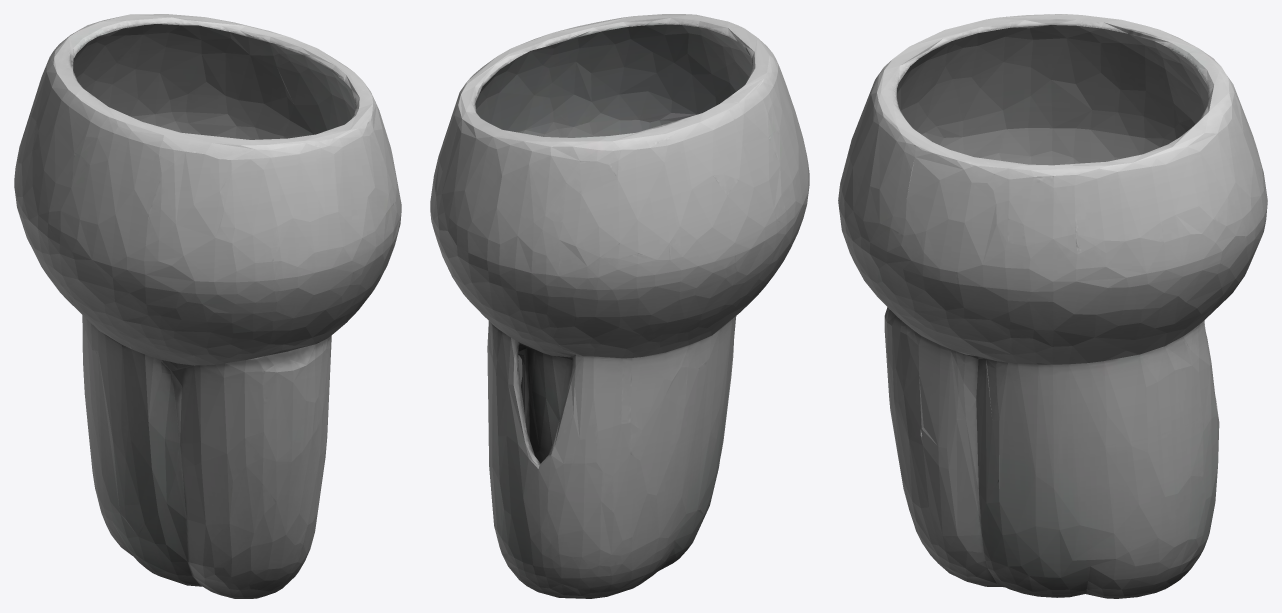
File: vase_white_round_2.glb
The picture shows the model from 3 angles, left to right: view 1: azimuth 30°, elevation 25°; view 2: azimuth 150°, elevation 25°; view 3: azimuth 270°, elevation 25°; orthographic projection. The views are drawn at different scales.
Visible parts, largest first — view 1: geometry_0; view 2: geometry_0; view 3: geometry_0.
Part boxes in pixels (x1=…): geometry_0: x1=14, y1=14, x2=401, y2=598; geometry_0: x1=430, y1=14, x2=809, y2=598; geometry_0: x1=838, y1=14, x2=1267, y2=598.
Size of the model in its own units: 0.6655 by 0.9957 by 0.7733.
1 material, 1 textured.
